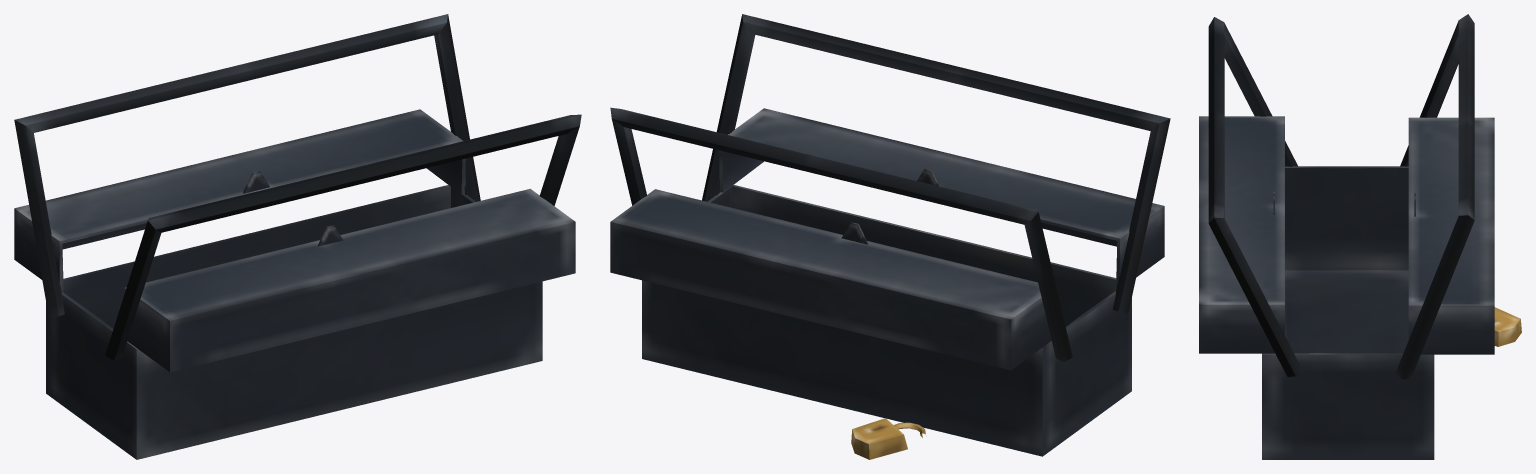
File: toolbox_open.FBX
3 renders of one model, left to right at view 1: azimuth 30°, elevation 25°; view 2: azimuth 150°, elevation 25°; view 3: azimuth 270°, elevation 25°, orthographic. The views are drawn at different scales.
Parts seen in each view (by area): view 1: InventoryItem_Toolbox_open; view 2: InventoryItem_Toolbox_open; view 3: InventoryItem_Toolbox_open.
Part boxes in pixels (<box>): InventoryItem_Toolbox_open: <box>14,14,581,459</box>; InventoryItem_Toolbox_open: <box>610,14,1170,459</box>; InventoryItem_Toolbox_open: <box>1199,14,1521,459</box>.
Bounding box in the file's own units: 539 × 365 × 315.
1 material, 1 textured.
